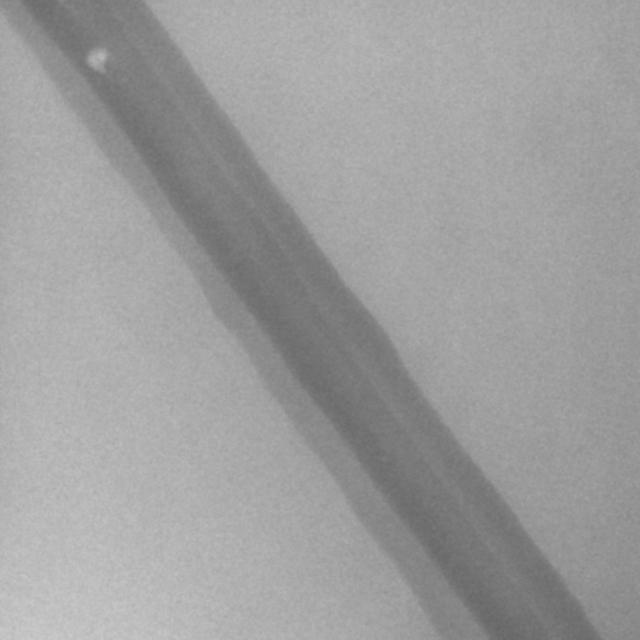slag inclusion: (85, 50, 107, 76)
